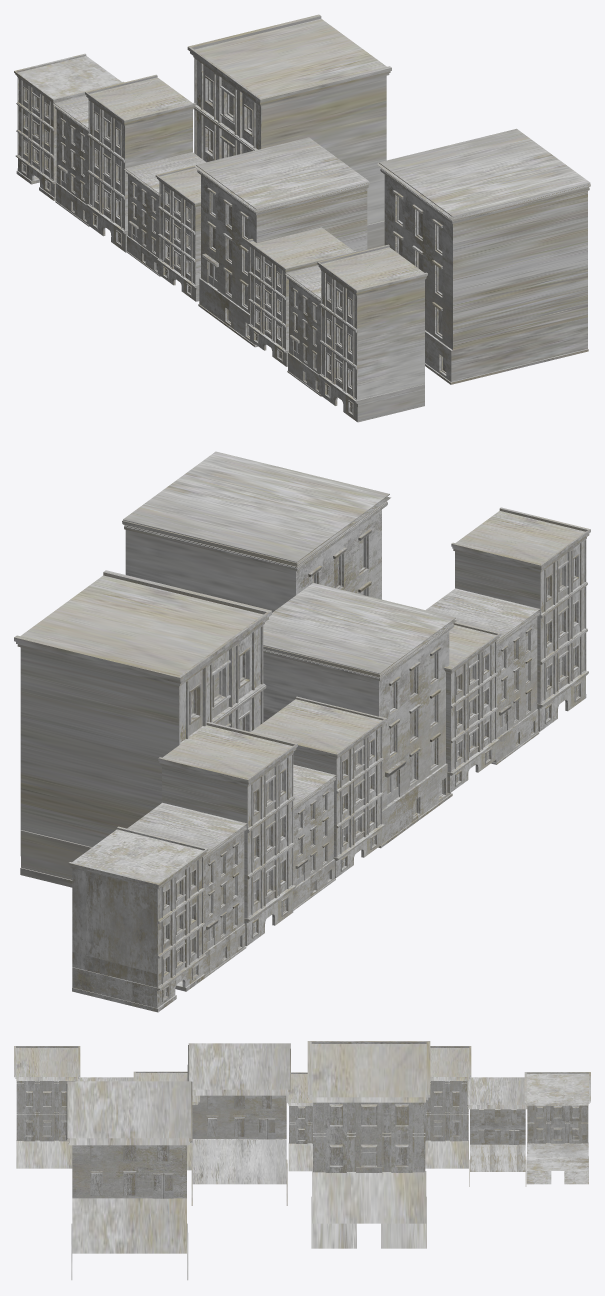
File: bangun.DN.NBFKJAGFJGDFJ1.fbx
3 renders of one model, top to bottom at view 1: azimuth 30°, elevation 25°; view 2: azimuth 150°, elevation 25°; view 3: azimuth 270°, elevation 25°, orthographic. The views are drawn at different scales.
Visible parts, largest first — view 1: buld.211, buld.113, buld, buld.188, buld.038, buld.001, buld.143, buld.083, buld.061, buld.016, buld.166; view 2: buld.113, buld.211, buld, buld.001, buld.038, buld.188, buld.083, buld.016, buld.166, buld.143, buld.061; view 3: buld.113, buld.211, buld, buld.001, buld.188, buld.016, buld.038, buld.083, buld.143.
Boxes of the visible parts, x1,y1,x2,y2 form: buld.211: [377, 128, 590, 384]; buld.113: [187, 14, 391, 249]; buld: [195, 137, 369, 347]; buld.188: [317, 244, 427, 422]; buld.038: [85, 74, 195, 252]; buld.001: [14, 53, 124, 200]; buld.143: [246, 227, 356, 366]; buld.083: [155, 165, 200, 301]; buld.061: [124, 152, 205, 276]; buld.016: [53, 95, 89, 226]; buld.166: [285, 265, 322, 396]; buld.113: [14, 570, 271, 887]; buld.211: [122, 451, 390, 612]; buld: [263, 583, 456, 848]; buld.001: [68, 826, 208, 1012]; buld.038: [158, 722, 297, 946]; buld.188: [451, 507, 590, 731]; buld.083: [251, 696, 386, 878]; buld.016: [127, 802, 247, 977]; buld.166: [425, 588, 540, 764]; buld.143: [443, 622, 501, 792]; buld.061: [291, 764, 338, 910]; buld.113: [307, 1041, 430, 1248]; buld.211: [66, 1081, 192, 1280]; buld: [187, 1043, 290, 1205]; buld.001: [524, 1072, 590, 1184]; buld.188: [14, 1046, 80, 1168]; buld.016: [467, 1077, 528, 1186]; buld.038: [425, 1046, 471, 1168]; buld.083: [286, 1072, 312, 1171]; buld.143: [133, 1071, 199, 1170].
Size of the model in its own units: 7034 by 4917 by 15696.
1 material, 1 textured.
